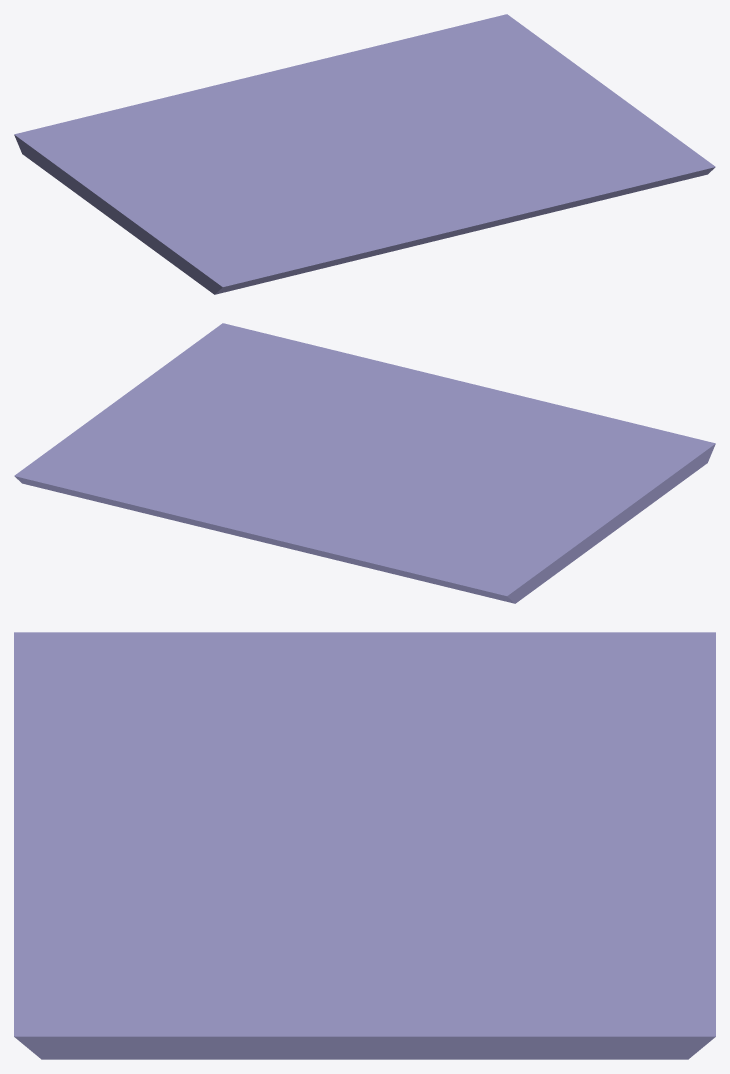
File: corridor_top_main.fbx
3 views of the same model, one above another, from view 1: azimuth 30°, elevation 25°; view 2: azimuth 150°, elevation 25°; view 3: azimuth 270°, elevation 25° (orthographic). The views are drawn at different scales.
Parts seen in each view (by area): view 1: base_corridor_top; view 2: base_corridor_top; view 3: base_corridor_top.
Boxes of the visible parts, bbox=[...] form: base_corridor_top: bbox=[14, 14, 715, 294]; base_corridor_top: bbox=[14, 323, 715, 603]; base_corridor_top: bbox=[14, 632, 715, 1059].
Bounding box in the file's own units: 44.64 × 1.18 × 32.74.
